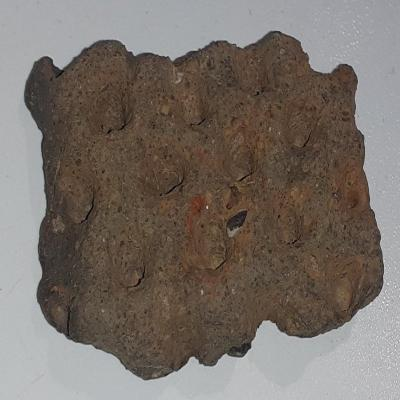archeology: (22, 31, 385, 383)
